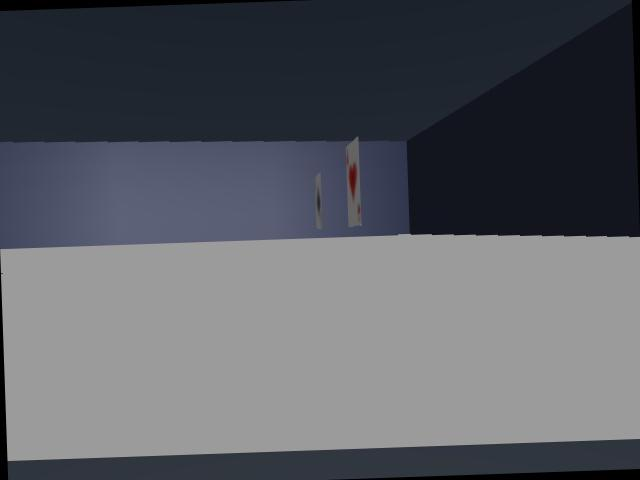club: (315, 173, 322, 228)
heart: (346, 138, 360, 226)
